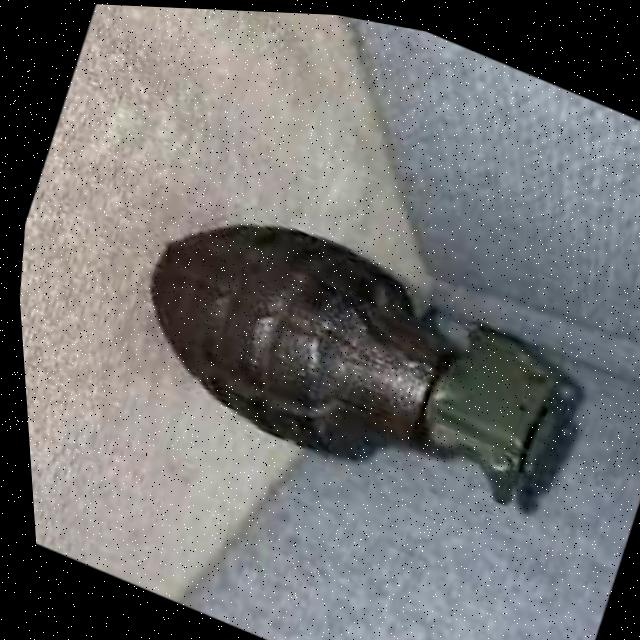grenade: (121, 201, 605, 523)
